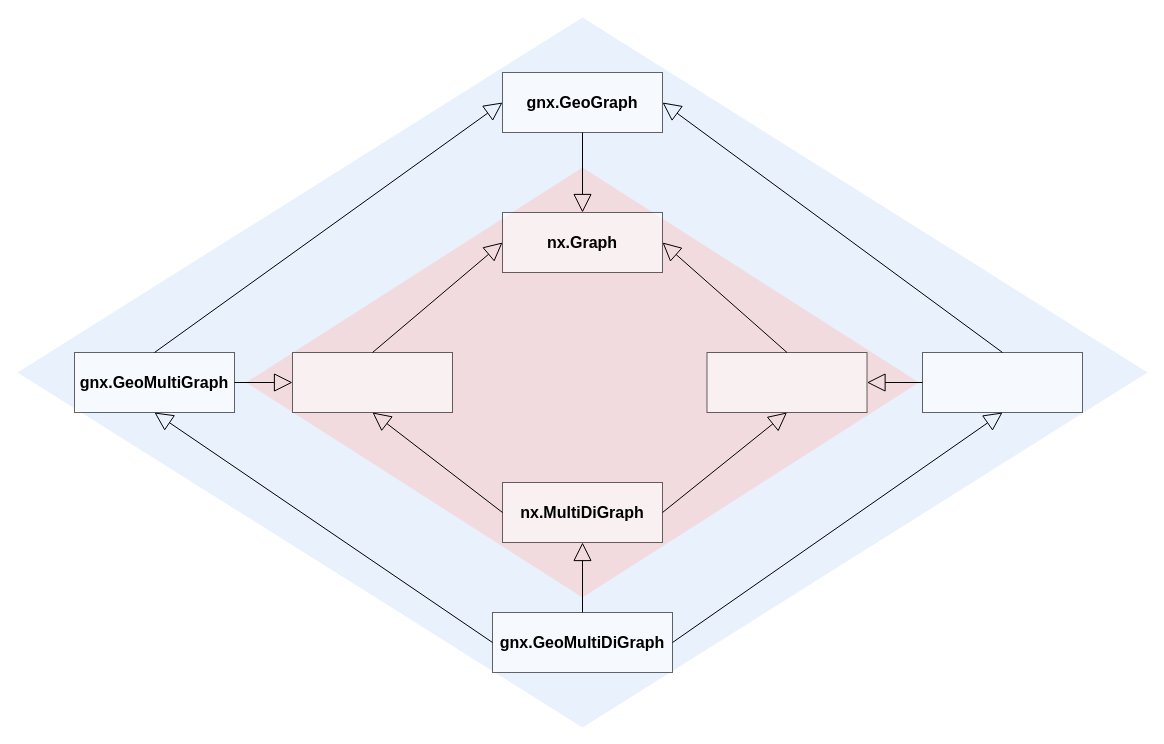
Some shapes in this 1164 by 744 pixel diagram are drawn without their labels. Each missing label, with the centre of its shape:
"gnx.GeoDiGraph" goes at [1002,382].
"nx.DiGraph" goes at [786,382].
"nx.MultiGraph" goes at [372,382].
